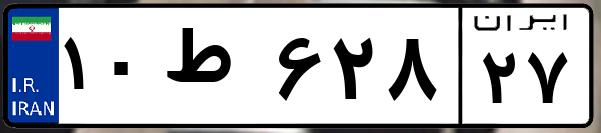0: (110, 28, 158, 98)
1: (57, 26, 110, 100)
2: (330, 28, 385, 110), (475, 38, 525, 113)
6: (270, 28, 330, 110)
7: (525, 38, 570, 115)
8: (385, 28, 445, 110)
ط: (158, 20, 270, 120)
